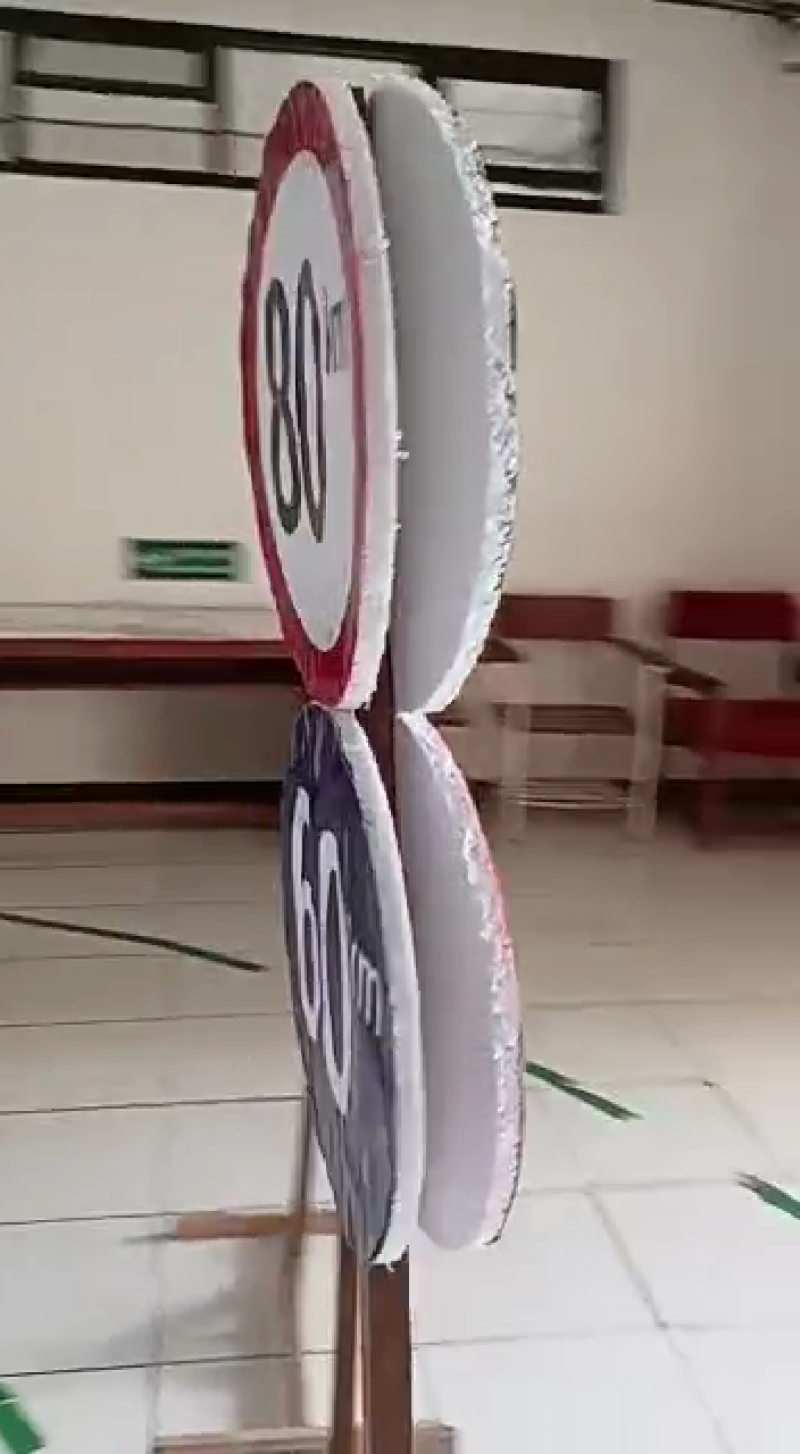batas maksimal 80kmperjam minimal 60kmperjam: (203, 70, 442, 1311)
